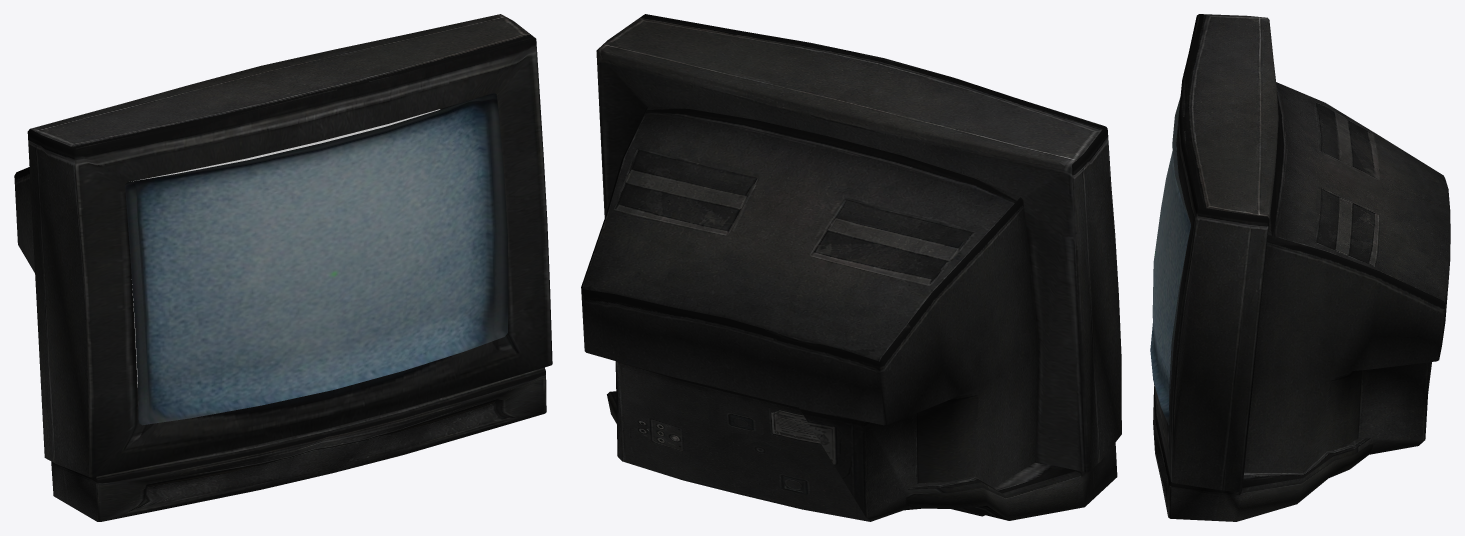
The model's file is lounge-tv-v2.glb.
3 renders of one model, left to right at view 1: azimuth 30°, elevation 25°; view 2: azimuth 150°, elevation 25°; view 3: azimuth 270°, elevation 25°, orthographic. The views are drawn at different scales.
Visible parts, largest first — view 1: TVman_0; view 2: TVman_0; view 3: TVman_0.
Boxes of the visible parts, x1,y1,x2,y2 form: TVman_0: [14, 14, 552, 521]; TVman_0: [581, 14, 1121, 521]; TVman_0: [1150, 14, 1450, 521].
Size of the model in its own units: 0.3651 by 0.2721 by 0.2302.
3 materials, 2 textured.
